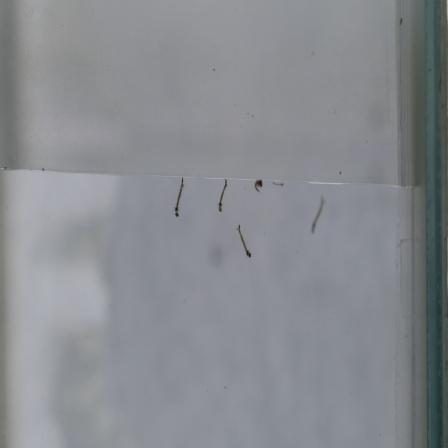Jentik-Nyamuk: (233, 221, 256, 263), (170, 174, 188, 220), (214, 177, 231, 216), (251, 177, 265, 193)
